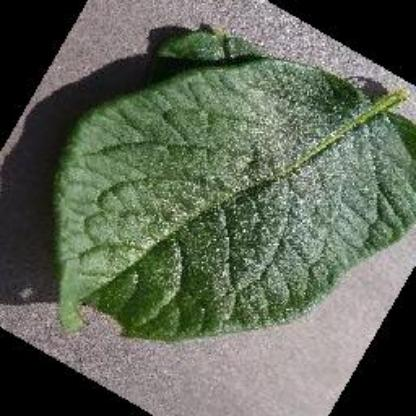Healthy-plant: (19, 32, 416, 395)
